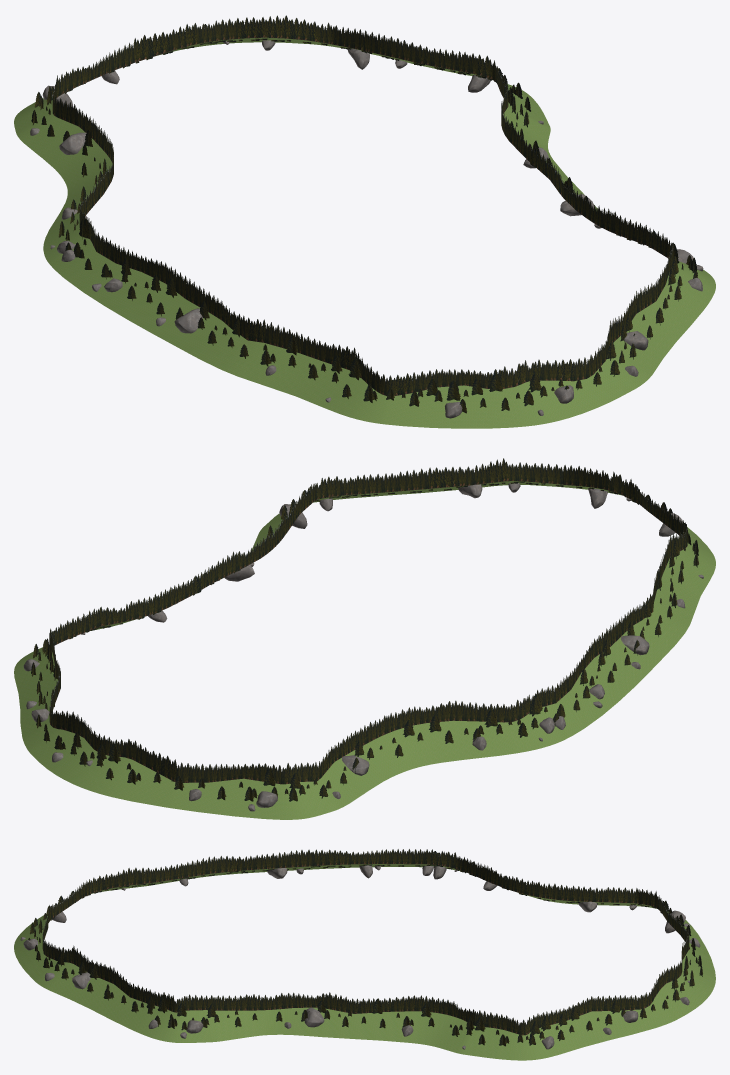
3 renders of one model, top to bottom at view 1: azimuth 30°, elevation 25°; view 2: azimuth 150°, elevation 25°; view 3: azimuth 270°, elevation 25°, orthographic. The views are drawn at different scales.
Visible parts, largest first — view 1: Wall_02, Wall_01, Wall_00, Wall_03, Wall_09, Wall_07, Wall_08, Wall_06, Wall_04, Wall_05, Trees_02, Trees_01 (+7 smaller); view 2: Wall_09, Wall_08, Wall_07, Wall_00, Wall_01, Wall_03, Wall_05, Wall_06, Wall_02, Wall_04, Trees_09, Trees_08 (+7 smaller); view 3: Wall_05, Wall_04, Wall_06, Wall_03, Wall_07, Wall_00, Wall_01, Wall_09, Wall_08, Wall_02, Trees_05, Trees_06 (+6 smaller).
Part boxes in pixels (x1,y1,x2,y2): Wall_02: (380,357,608,428); Wall_01: (190,303,389,423); Wall_00: (49,218,222,353); Wall_03: (587,261,707,402); Wall_09: (39,107,113,262); Wall_07: (131,15,340,63); Wall_08: (14,42,131,155); Wall_06: (331,25,539,106); Wall_04: (563,184,715,303); Wall_05: (499,71,597,210); Trees_02: (386,372,582,413); Trees_01: (207,318,377,402); Wall_09: (332,694,562,792); Wall_08: (169,746,364,819); Wall_07: (23,706,178,807); Wall_00: (535,607,669,740); Wall_01: (633,528,715,651); Wall_03: (338,458,567,499); Wall_05: (71,551,245,637); Wall_06: (14,620,71,740); Wall_02: (563,465,713,554); Wall_04: (245,476,346,566); Trees_09: (343,698,540,773); Trees_08: (174,768,346,801); Wall_05: (311,992,503,1058); Wall_04: (136,992,315,1042); Wall_06: (496,995,657,1060); Wall_03: (23,940,157,1031); Wall_07: (645,933,715,1026); Wall_00: (252,849,434,872); Wall_01: (90,856,256,893); Wall_09: (435,851,607,905); Wall_08: (606,887,710,956); Wall_02: (14,879,90,967); Trees_05: (317,998,499,1045); Trees_06: (499,1000,646,1046).
Size of what is drawn, in the model's own units: 382 by 36.2 by 585.
